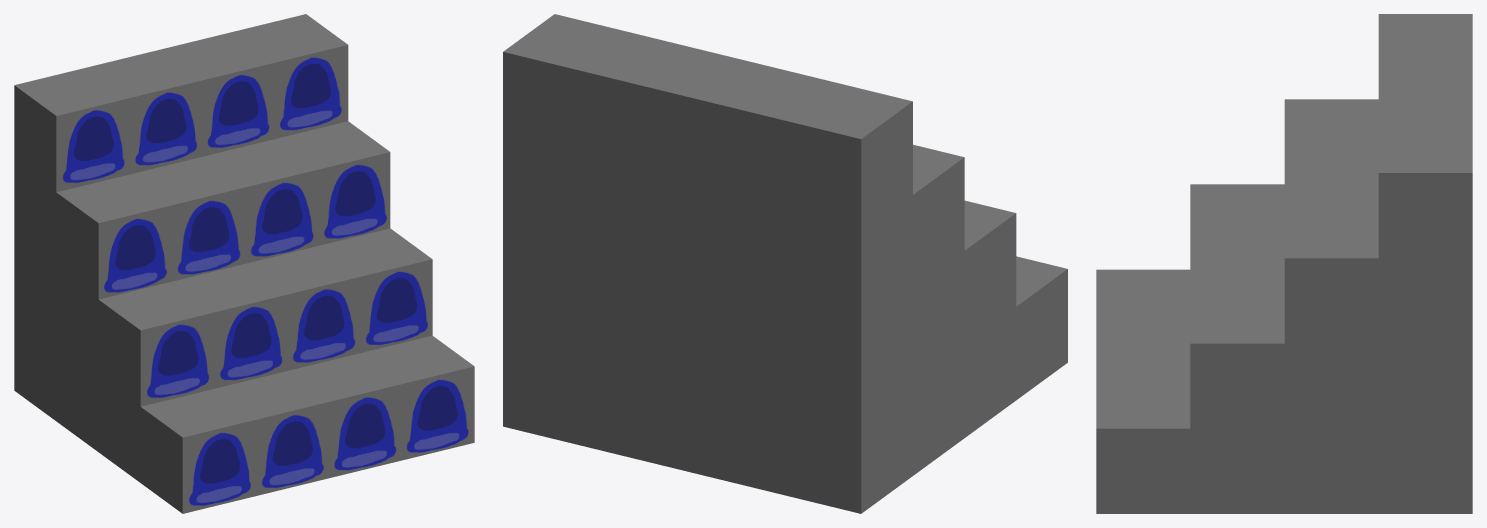
The model's file is seat.fbx.
The picture shows the model from 3 angles, left to right: view 1: azimuth 30°, elevation 25°; view 2: azimuth 150°, elevation 25°; view 3: azimuth 270°, elevation 25°; orthographic projection. The views are drawn at different scales.
Visible parts, largest first — view 1: seat; view 2: seat; view 3: seat.
Part boxes in pixels (x1,y1,x2,y2): seat: (14, 14, 474, 513); seat: (503, 14, 1067, 513); seat: (1096, 14, 1472, 513).
Size of the model in its own units: 10 by 10 by 10.
Materials: 1 (1 with a texture image).
